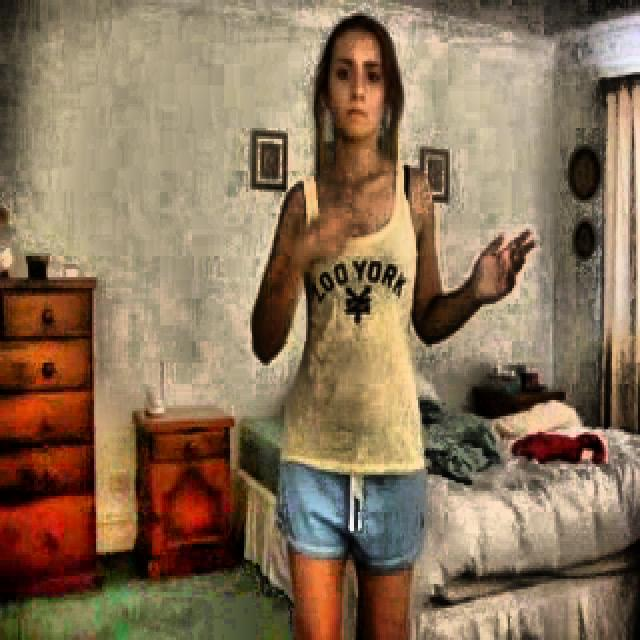F: (252, 13, 533, 640)
